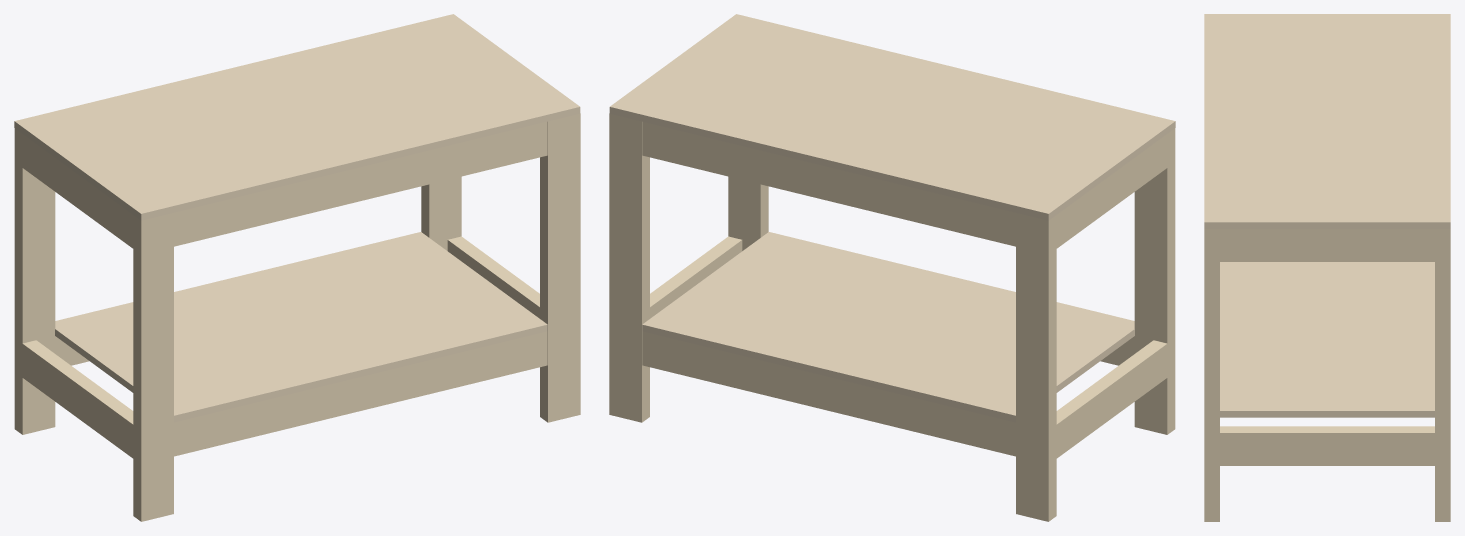
File: natural.glb
3 views of the same model, side by side, from view 1: azimuth 30°, elevation 25°; view 2: azimuth 150°, elevation 25°; view 3: azimuth 270°, elevation 25° (orthographic). The views are drawn at different scales.
Parts seen in each view (by area): view 1: top.1, shelf.1, long_rail.2, long_rail.4, leg.3, leg.4, leg.1, short_rail.1, short_rail.3, leg.2, short_rail.2; view 2: top.1, shelf.1, long_rail.1, long_rail.3, leg.1, leg.2, leg.3, short_rail.1, short_rail.3, leg.4, short_rail.2; view 3: top.1, shelf.1, short_rail.2, short_rail.4, leg.2, leg.4.
Boxes of the visible parts, x1,y1,x2,y2 form: top.1: (14,14,580,220); shelf.1: (55,232,547,422); long_rail.2: (174,331,547,456); long_rail.4: (174,121,547,246); leg.3: (133,213,173,521); leg.4: (540,113,580,422); leg.1: (14,128,55,434); short_rail.1: (22,340,133,458); short_rail.3: (22,134,133,248); leg.2: (421,176,461,250); short_rail.2: (447,236,539,318); top.1: (609,14,1175,220); shelf.1: (642,232,1134,422); long_rail.1: (642,331,1015,456); long_rail.3: (642,121,1015,246); leg.1: (1016,213,1056,521); leg.2: (609,113,649,422); leg.3: (1134,128,1175,434); short_rail.1: (1056,340,1167,458); short_rail.3: (1056,134,1167,248); leg.4: (728,176,768,250); short_rail.2: (650,236,742,318); top.1: (1204,14,1450,228); shelf.1: (1220,262,1434,417); short_rail.2: (1220,426,1434,465); short_rail.4: (1220,229,1434,261); leg.2: (1435,229,1450,521); leg.4: (1204,229,1219,521).
Bounding box in the file's own units: 1.2 × 0.8045 × 0.6.
